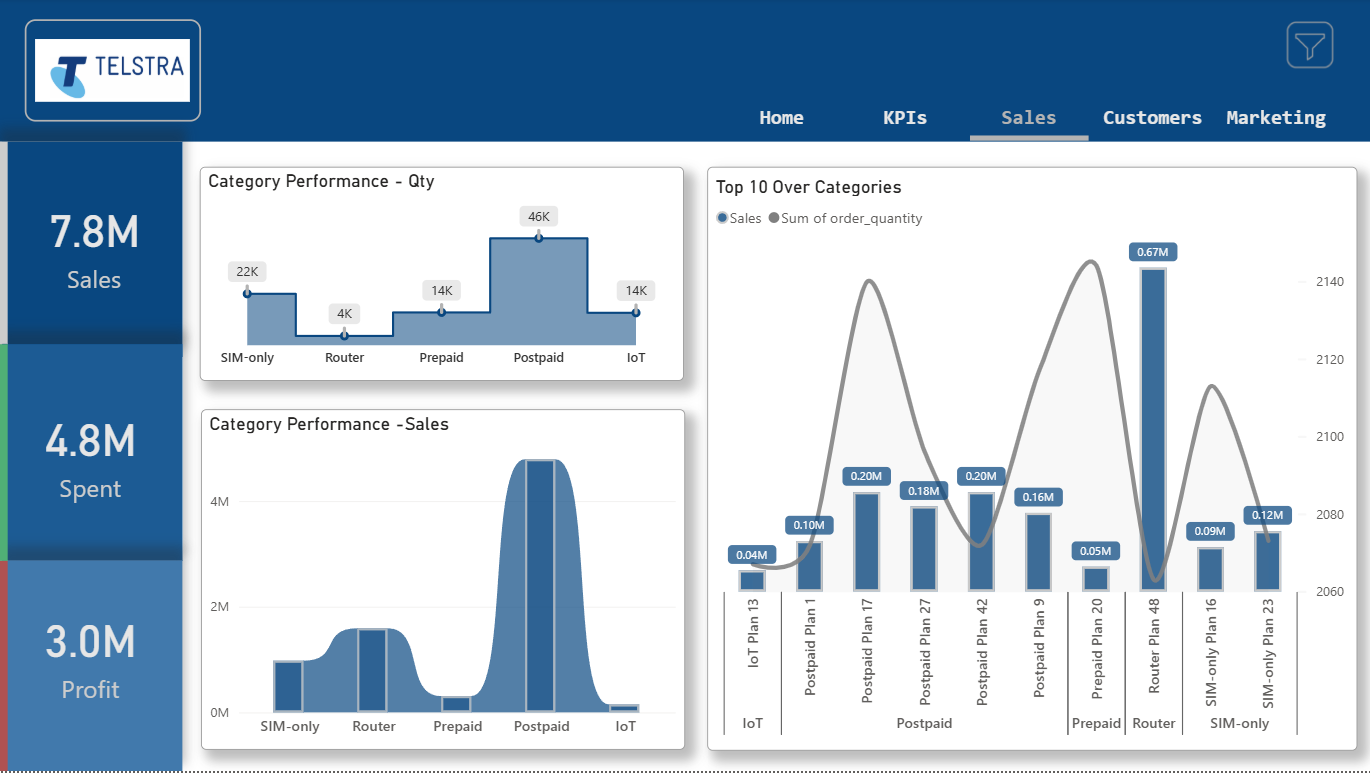

Layout of this report page (visuals, bound fields, positions):
{"tool":"powerbi","page":{"name":"Sales","canvas":[1280,720],"ordinal":2},"visuals":[{"type":"group","id":"g1","title":"Group 3","box":[0,0,1282.4,720.2],"z":0,"group":"g4"},{"type":"group","id":"g2","title":"Group 2","box":[0,0,1282.4,720.2],"z":0,"group":"g1"},{"type":"group","id":"g3","title":"Group 1","box":[0,0,1282.4,133.9],"z":0,"group":"g2"},{"type":"shape","box":[0,0,1282.4,133.9],"z":0,"group":"g3"},{"type":"ribbonChart","title":"Category Performance -Sales","fields":{"Category":["Dim_Product_final.category"],"Y":["Sum(Fact_Sales_final.sales_revenue)"]},"box":[190.7,382.8,450.1,317],"z":0},{"type":"image","box":[26.5,19.3,164.1,95.3],"z":1000,"group":"g4"},{"type":"pageNavigator","box":[675.7,84.6,574.4,49],"z":1000,"group":"g3"},{"type":"shape","box":[6,133.9,167.7,200.3],"z":1000,"group":"g2"},{"type":"lineClusteredColumnComboChart","title":"Top 10 Over Categories","fields":{"Category":["Dim_Product_final.category","Dim_Product_final.plan_name"],"Y":["Sum(Fact_Sales_final.sales_revenue)"],"Y2":["Sum(Fact_Sales_final.order_quantity)"]},"box":[661.1,156.8,604.4,542.9],"z":1000},{"type":"lineChart","title":"Category Performance - Qty","fields":{"Y":["Sum(Fact_Sales_final.order_quantity)"],"Category":["Dim_Product_final.category"]},"box":[189.4,156.8,450,199.1],"z":2000},{"type":"shape","box":[6,322.1,167.7,201.5],"z":2000,"group":"g2"},{"type":"group","id":"g4","title":"Group 4","box":[0,0,1282.4,720.2],"z":3000},{"type":"shape","box":[7.2,523.6,166.5,196.6],"z":3000,"group":"g2"},{"type":"shape","box":[0,133.9,10.9,188.2],"z":4000,"group":"g2"},{"type":"actionButton","box":[1195.4,19.8,54.7,47.7],"z":5000},{"type":"shape","box":[0,523.4,10.9,196.6],"z":5000,"group":"g2"},{"type":"card","fields":{"Values":["Meaasurments.Sales"]},"box":[11,156.4,161.9,141.3],"z":6000},{"type":"shape","box":[0,322.1,10.9,201.5],"z":6000,"group":"g2"},{"type":"card","fields":{"Values":["Meaasurments.Profit"]},"box":[6.9,537.9,161.9,141.3],"z":7000},{"type":"card","fields":{"Values":["Meaasurments.Spent"]},"box":[6.9,351.3,161.9,141.3],"z":8000}]}

Visuals, with their boxes in screenshot pixels (x1, y1, x2, y2), scaled from the page's 1280x720 canvas onto the 1370x774 screenshot:
"Group 3" group: [x1=0, y1=0, x2=1369, y2=773]
"Group 2" group: [x1=0, y1=0, x2=1369, y2=773]
"Group 1" group: [x1=0, y1=0, x2=1369, y2=144]
shape: [x1=0, y1=0, x2=1369, y2=144]
"Category Performance -Sales" ribbonChart: [x1=204, y1=412, x2=686, y2=752]
image: [x1=28, y1=21, x2=204, y2=123]
pageNavigator: [x1=723, y1=91, x2=1338, y2=144]
shape: [x1=6, y1=144, x2=186, y2=359]
"Top 10 Over Categories" lineClusteredColumnComboChart: [x1=708, y1=169, x2=1354, y2=752]
"Category Performance - Qty" lineChart: [x1=203, y1=169, x2=684, y2=383]
shape: [x1=6, y1=346, x2=186, y2=563]
"Group 4" group: [x1=0, y1=0, x2=1369, y2=773]
shape: [x1=8, y1=563, x2=186, y2=773]
shape: [x1=0, y1=144, x2=12, y2=346]
actionButton: [x1=1279, y1=21, x2=1338, y2=73]
shape: [x1=0, y1=563, x2=12, y2=773]
card - Meaasurments.Sales: [x1=12, y1=168, x2=185, y2=320]
shape: [x1=0, y1=346, x2=12, y2=563]
card - Meaasurments.Profit: [x1=7, y1=578, x2=181, y2=730]
card - Meaasurments.Spent: [x1=7, y1=378, x2=181, y2=530]
